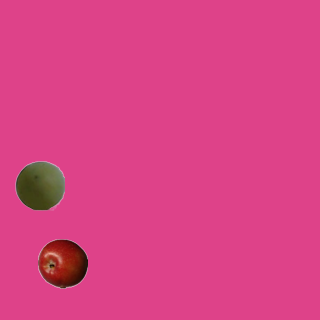Apple Braeburn: (37, 238, 87, 288)
Grape White 4: (14, 160, 64, 210)
